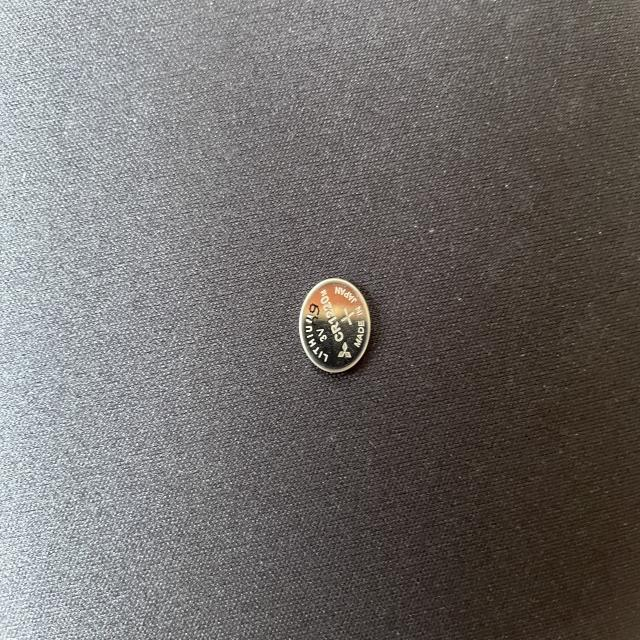COIN: (294, 273, 374, 376)
